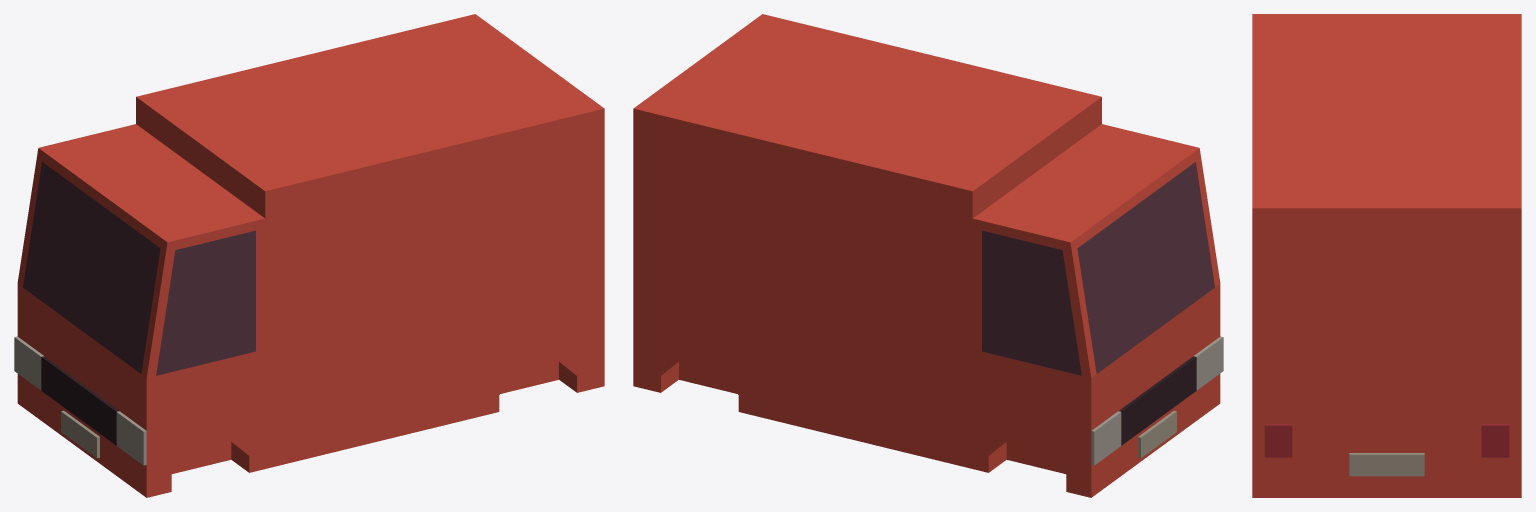
Rendered from MiniTruck_Red.fbx.
3 renders of one model, left to right at view 1: azimuth 30°, elevation 25°; view 2: azimuth 150°, elevation 25°; view 3: azimuth 270°, elevation 25°, orthographic. The views are drawn at different scales.
Visible parts, largest first — view 1: MiniTruck_Red, MiniTruck_Lights; view 2: MiniTruck_Red, MiniTruck_Lights; view 3: MiniTruck_Red, MiniTruck_Lights.
Boxes of the visible parts, box(x1,y1,x2,y2) form: MiniTruck_Red: box(17, 14, 604, 497); MiniTruck_Lights: box(14, 336, 146, 465); MiniTruck_Red: box(633, 14, 1220, 497); MiniTruck_Lights: box(1091, 336, 1223, 465); MiniTruck_Red: box(1252, 14, 1521, 497); MiniTruck_Lights: box(1264, 424, 1509, 457).
Size of the model in its own units: 4.46 by 2.55 by 2.15.
